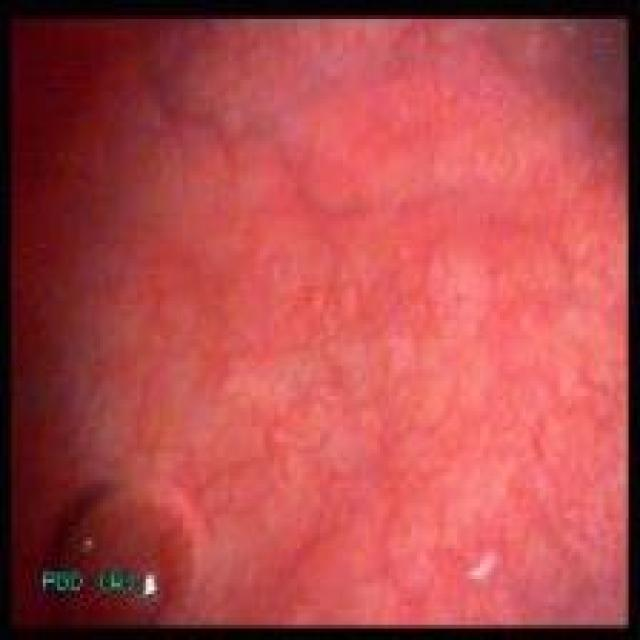bubbles: (57, 484, 210, 622)
color misalignment: (92, 567, 137, 593), (40, 567, 83, 593)
contrast: (12, 18, 103, 622)
specularity: (135, 564, 167, 613)
